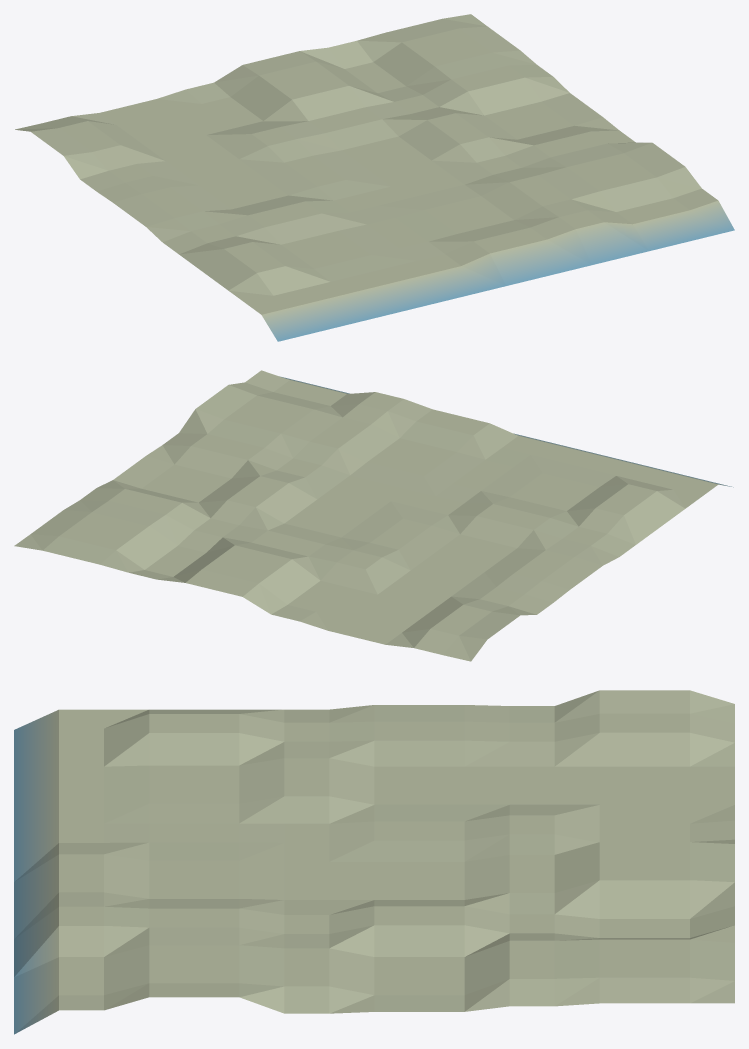
3 views of the same model, one above another, from view 1: azimuth 30°, elevation 25°; view 2: azimuth 150°, elevation 25°; view 3: azimuth 270°, elevation 25° (orthographic). The views are drawn at different scales.
Size of the model in its own units: 32 by 1.97 by 32.
